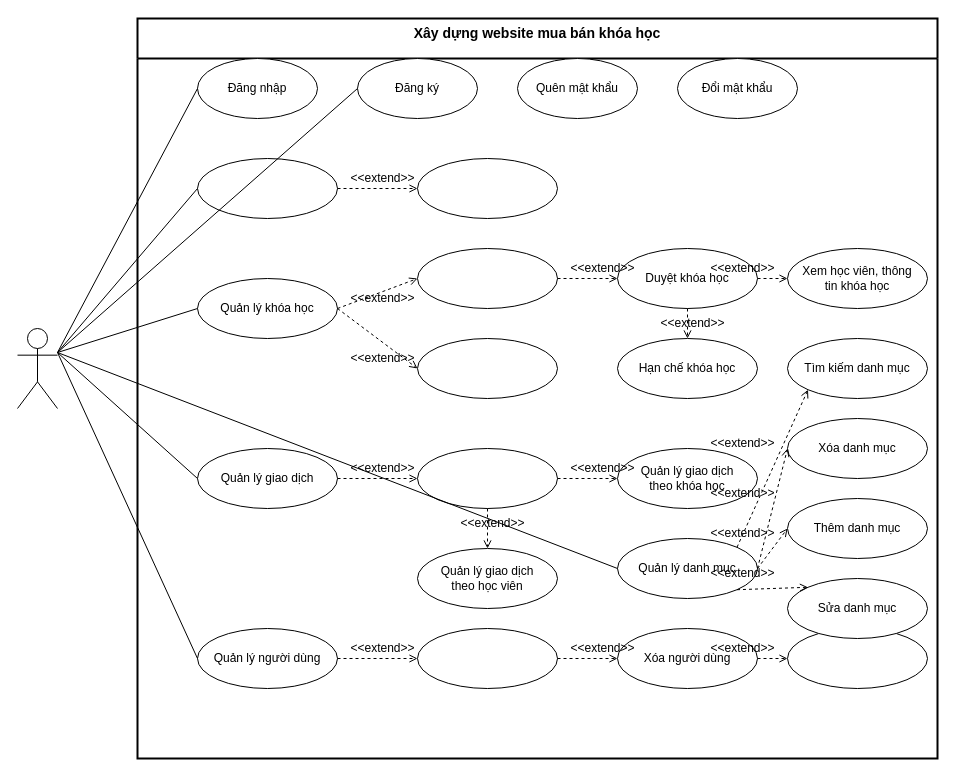
The diagram is 956 pixels wide and 776 high, and some of its shapes have lost their labels. Each missing label, with the centre of its shape:
Admin: pixel 37 368
Nhắn tin với chủ sở hữu khóa học: pixel 487 368
Quản lý tài khoản: pixel 267 188
Thay đổi thông tin cá nhân: pixel 487 188
Thêm admin mới: pixel 487 658
Xem thông kê giao dịch: pixel 487 478
Xem thông kê khóa học: pixel 487 278
Xem thông tin người dùng: pixel 857 658
